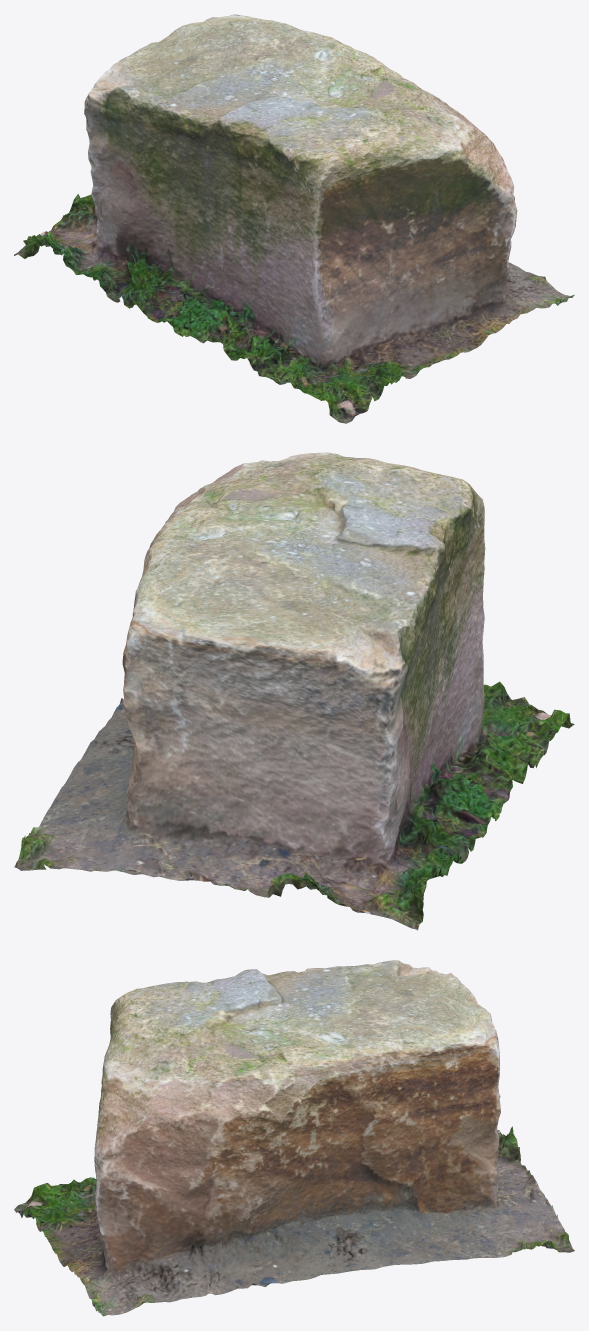
The model's file is stone.glb.
3 views of the same model, one above another, from view 1: azimuth 30°, elevation 25°; view 2: azimuth 150°, elevation 25°; view 3: azimuth 270°, elevation 25° (orthographic). The views are drawn at different scales.
Visible parts, largest first — view 1: Object_2; view 2: Object_2; view 3: Object_2.
Part boxes in pixels (x1,y1,x2,y2): Object_2: (14,14,574,423); Object_2: (14,452,574,930); Object_2: (14,960,574,1316).
Size of the model in its own units: 0.8163 by 0.4752 by 1.
Materials: 1 (1 with a texture image).
